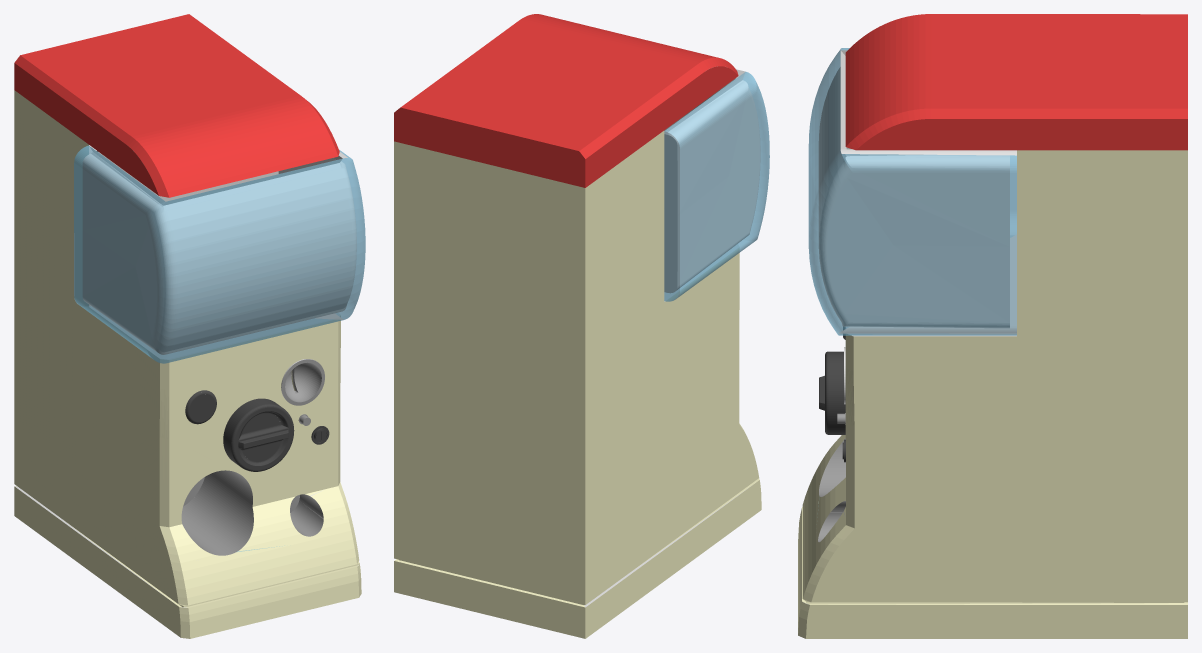
Rendered from gacha.glb.
The picture shows the model from 3 angles, left to right: view 1: azimuth 30°, elevation 25°; view 2: azimuth 150°, elevation 25°; view 3: azimuth 270°, elevation 25°; orthographic projection. The views are drawn at different scales.
Parts seen in each view (by area): view 1: Whole; view 2: Whole; view 3: Whole.
Part boxes in pixels (left/top/right/bottom): Whole: left=14, top=14, right=365, bottom=638; Whole: left=394, top=14, right=769, bottom=638; Whole: left=798, top=14, right=1187, bottom=638.
Size of the model in its own units: 2.6 by 5.52 by 3.7.
